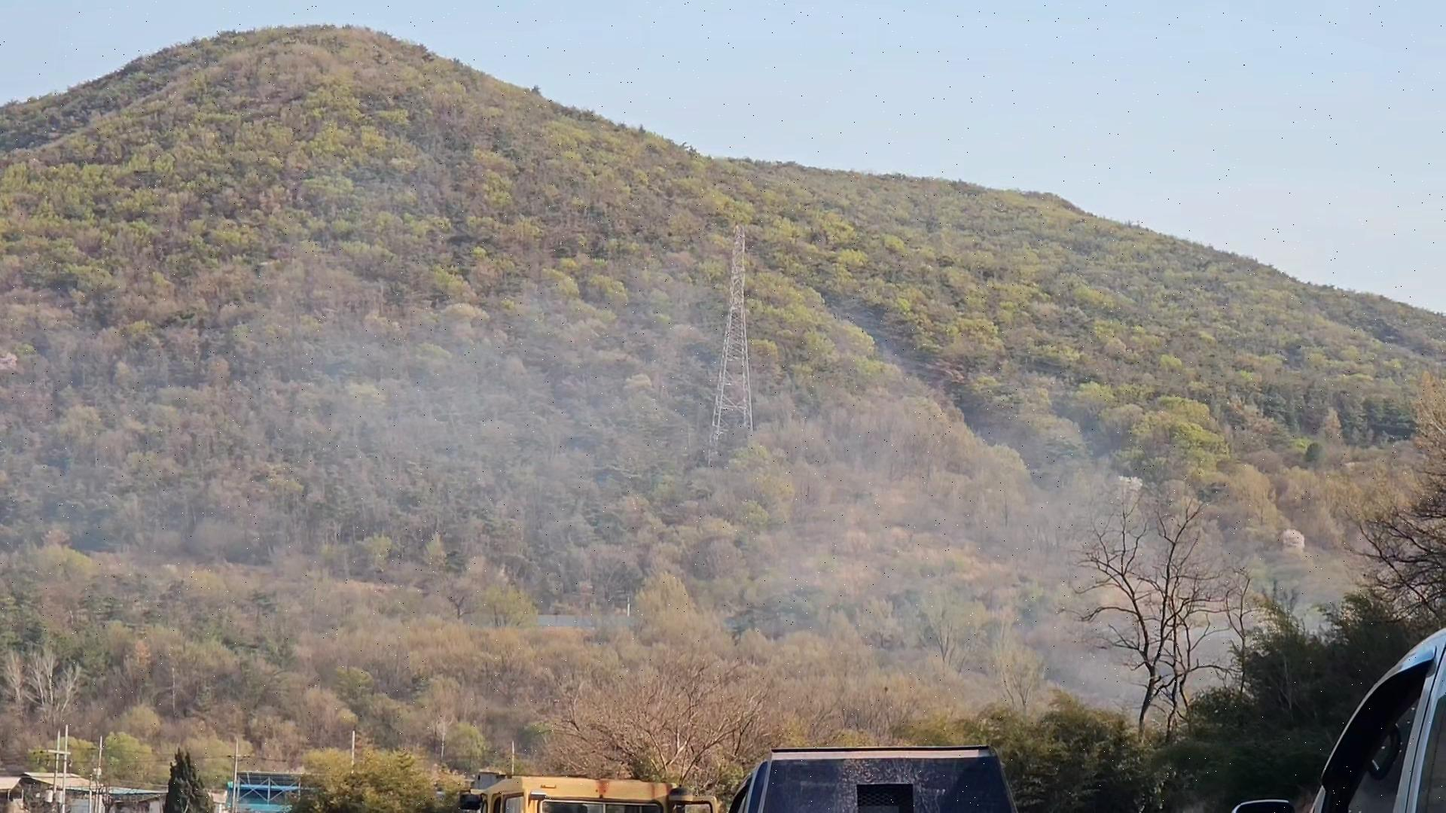smoke: (450, 310, 1351, 715)
